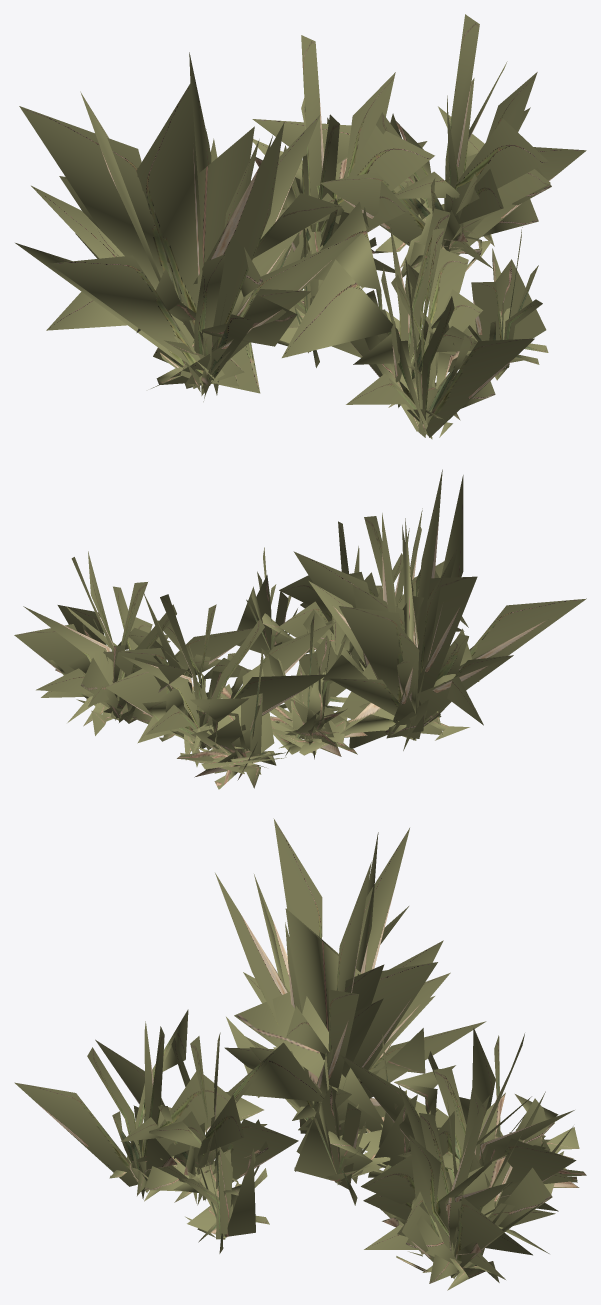
File: grass_b.glb
The picture shows the model from 3 angles, top to bottom: view 1: azimuth 30°, elevation 25°; view 2: azimuth 150°, elevation 25°; view 3: azimuth 270°, elevation 25°; orthographic projection. The views are drawn at different scales.
Visible parts, largest first — view 1: grass_b; view 2: grass_b; view 3: grass_b.
Boxes of the visible parts, x1=… form: grass_b: x1=15, y1=14, x2=586, y2=439; grass_b: x1=14, y1=469, x2=586, y2=789; grass_b: x1=14, y1=818, x2=586, y2=1290.
Size of the model in its own units: 0.8042 by 0.443 by 0.7185.
1 material, 1 textured.
